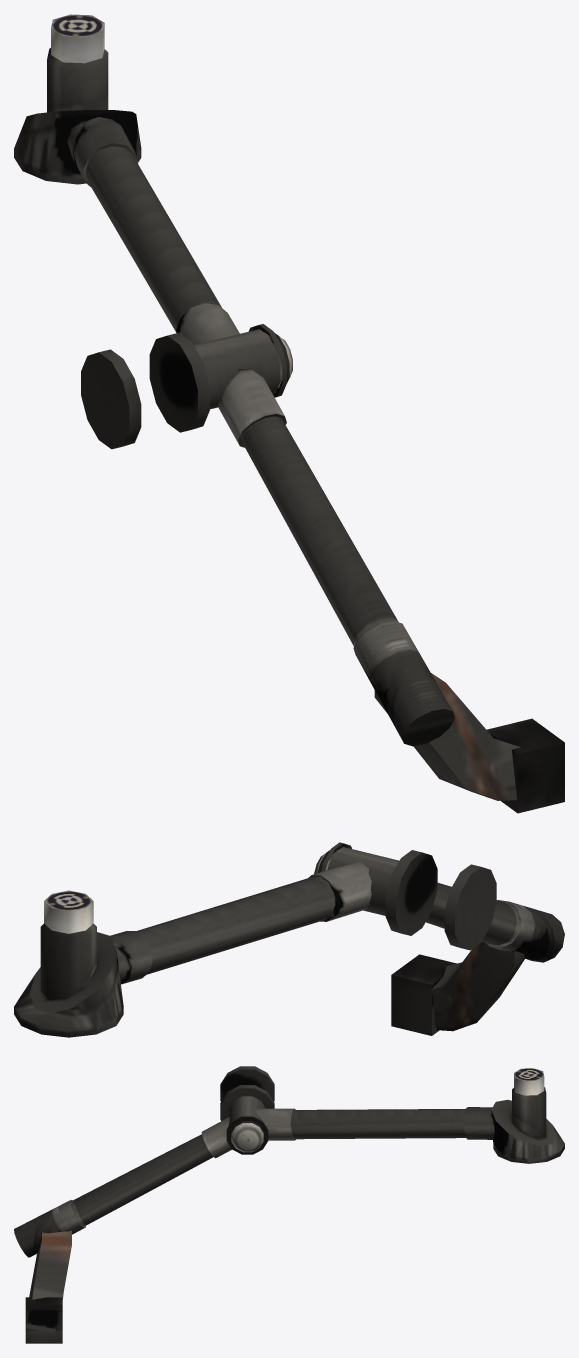
File: suspension_arm_B2_L.dae
The picture shows the model from 3 angles, top to bottom: view 1: azimuth 30°, elevation 25°; view 2: azimuth 150°, elevation 25°; view 3: azimuth 270°, elevation 25°; orthographic projection. The views are drawn at different scales.
Visible parts, largest first — view 1: suspension_arm_B2_L; view 2: suspension_arm_B2_L; view 3: suspension_arm_B2_L.
Boxes of the visible parts, left/top/right/bottom form: suspension_arm_B2_L: left=14, top=14, right=564, bottom=813; suspension_arm_B2_L: left=14, top=842, right=564, bottom=1037; suspension_arm_B2_L: left=14, top=1066, right=564, bottom=1343.
Size of the model in its own units: 0.4003 by 1.22 by 0.6313.
Materials: 3 (3 with a texture image).
